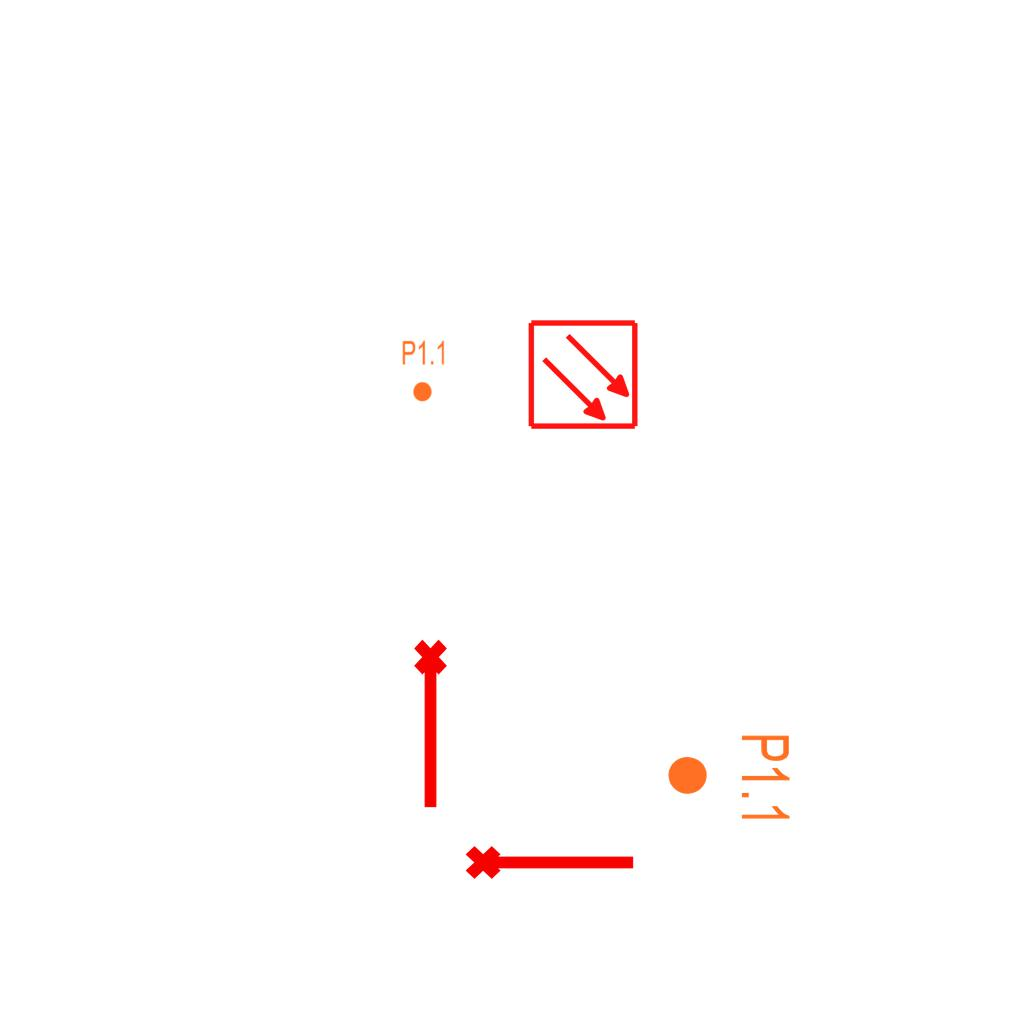ASR_Ansaugoeffnung: (410, 637, 456, 813), (463, 837, 639, 883)
Downlight_LED_Einbauleuchten_Flur: (665, 732, 793, 825), (401, 339, 447, 403)
RMO_Rauchmelder_optischer: (527, 318, 640, 431)
